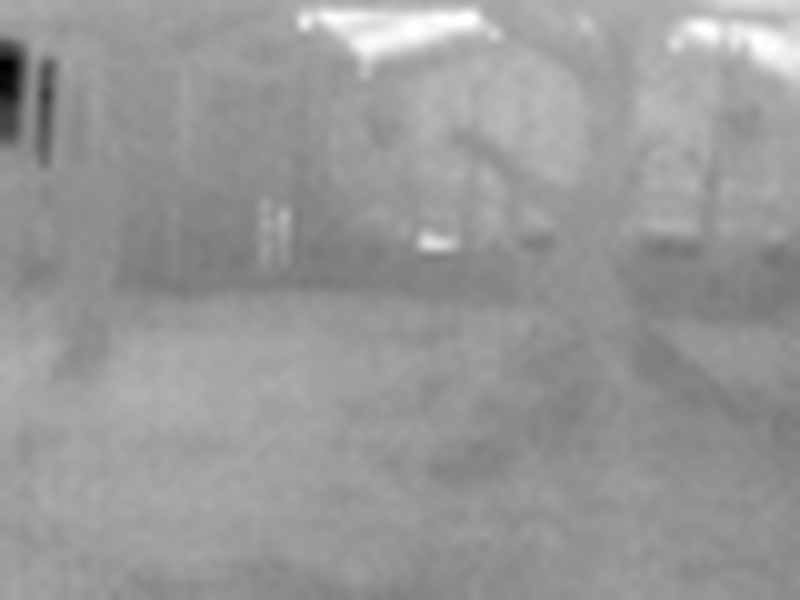elephant: (392, 188, 484, 283)
